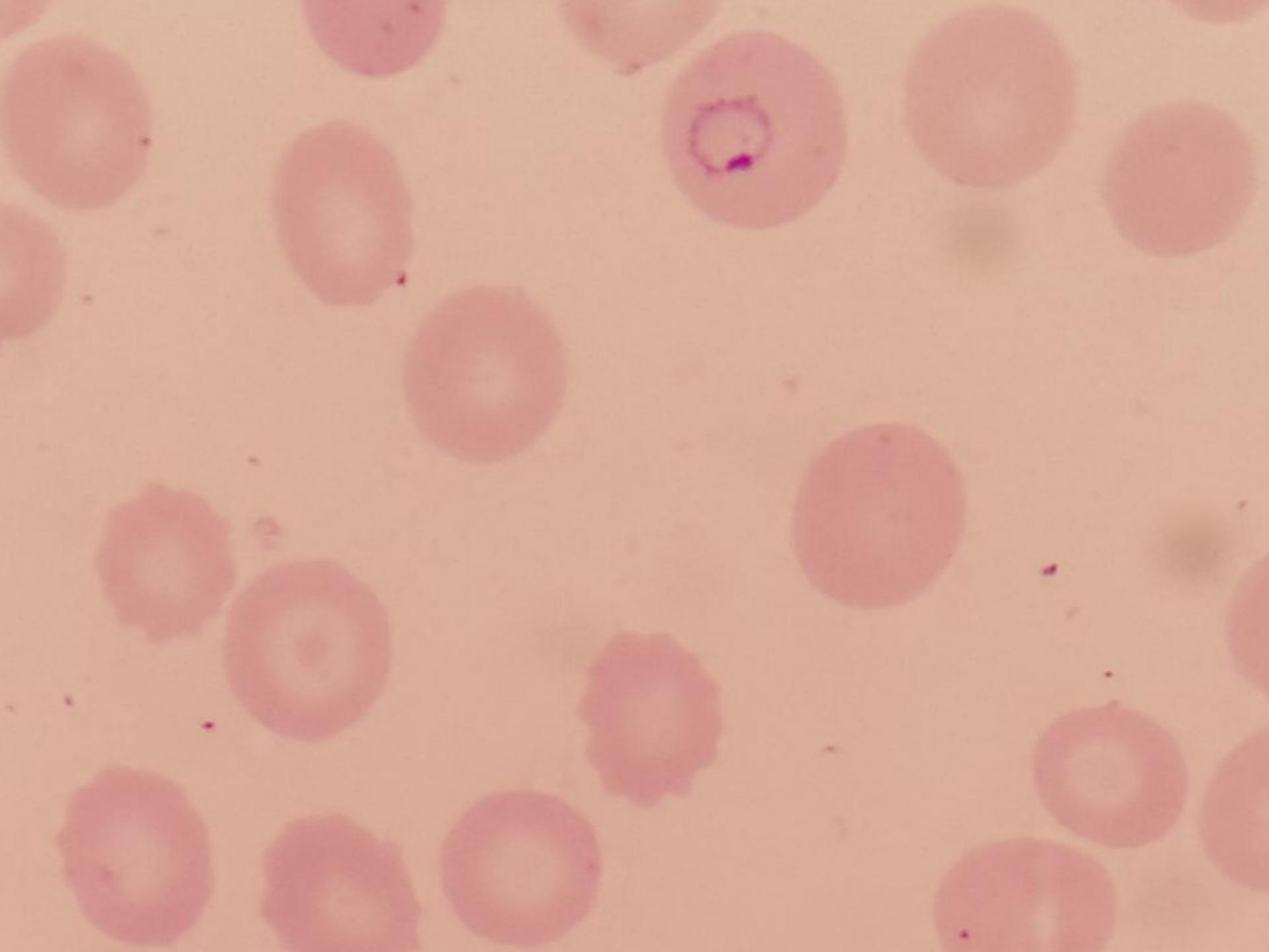Infected: (663, 32, 847, 229)
Uninfected: (791, 421, 964, 610), (905, 7, 1075, 192), (225, 559, 393, 742), (397, 284, 566, 459), (0, 35, 152, 212), (273, 122, 413, 308), (61, 773, 215, 936), (580, 628, 722, 804), (1102, 99, 1258, 257), (254, 806, 420, 952), (443, 790, 601, 940), (99, 483, 241, 637), (1034, 701, 1184, 844), (939, 833, 1117, 952)
